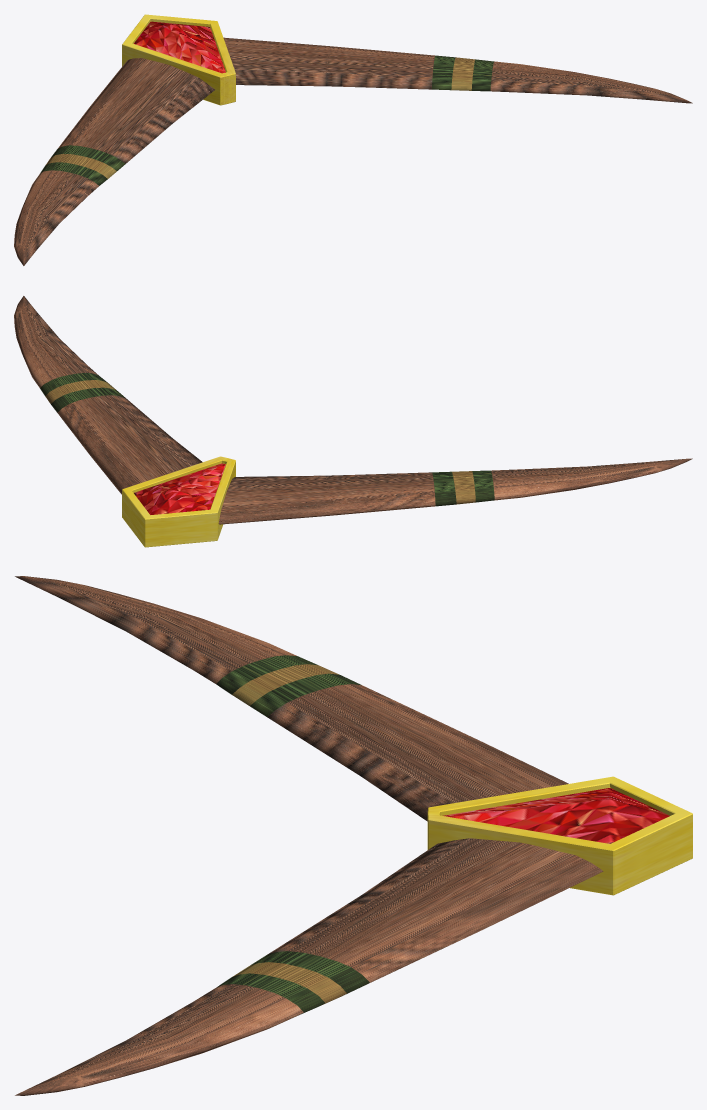
Rendered from Boomerang_Link 1.fbx.
The picture shows the model from 3 angles, top to bottom: view 1: azimuth 30°, elevation 25°; view 2: azimuth 150°, elevation 25°; view 3: azimuth 270°, elevation 25°; orthographic projection. The views are drawn at different scales.
Parts seen in each view (by area): view 1: Cube.006; view 2: Cube.006; view 3: Cube.006.
Part boxes in pixels (x1,y1,x2,y2): Cube.006: [14, 14, 692, 265]; Cube.006: [14, 296, 692, 547]; Cube.006: [15, 576, 692, 1095].
Bounding box in the file's own units: 0.9995 × 0.0648 × 0.5521.
